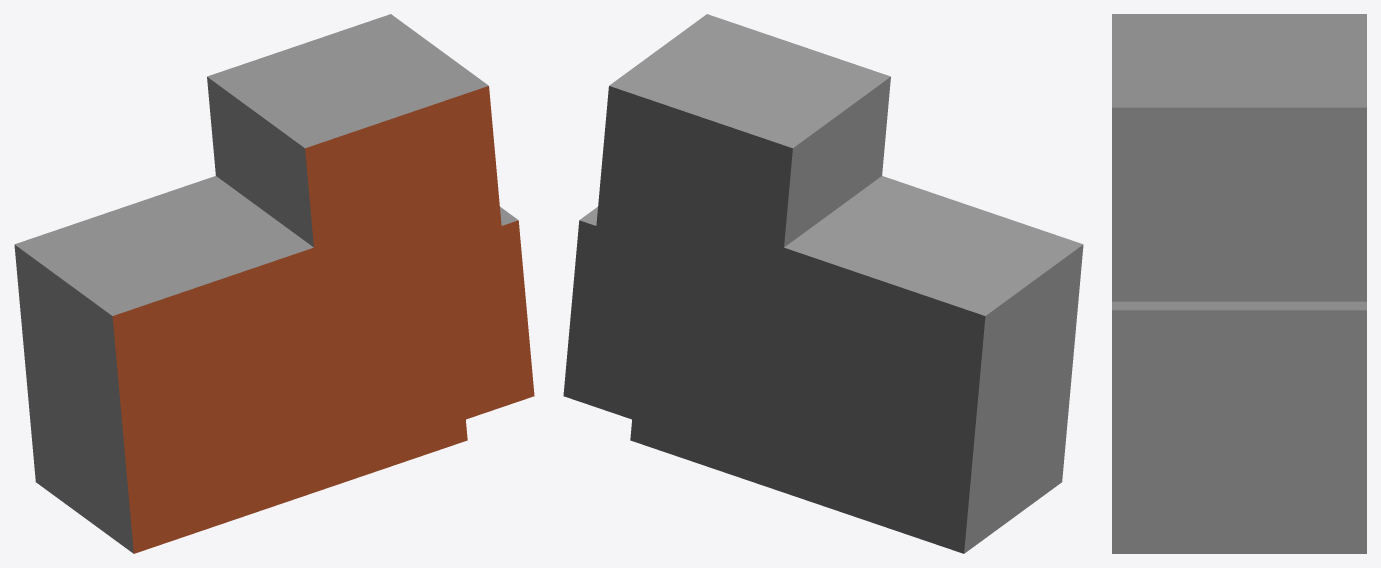
The model's file is construction_6720_assumed_A_Capela_h6m.obj.
The picture shows the model from 3 angles, left to right: view 1: azimuth 30°, elevation 25°; view 2: azimuth 150°, elevation 25°; view 3: azimuth 270°, elevation 25°; orthographic projection. The views are drawn at different scales.
Parts seen in each view (by area): view 1: construction_6720_assumed_A_Capela; view 2: construction_6720_assumed_A_Capela; view 3: construction_6720_assumed_A_Capela.
Part boxes in pixels (x1,y1,x2,y2): construction_6720_assumed_A_Capela: [14, 14, 534, 553]; construction_6720_assumed_A_Capela: [563, 14, 1083, 553]; construction_6720_assumed_A_Capela: [1112, 14, 1366, 553].
Bounding box in the file's own units: 14.9 × 12.88 × 6.
